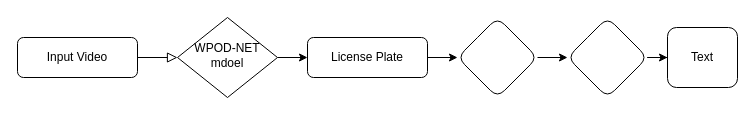
Image size: 755x115. Some labels were removed from this diagram. The centre of each missing label's shape, as x and y in pixels:
Image Processing: the point at 497,57
Tesseract: the point at 607,57
